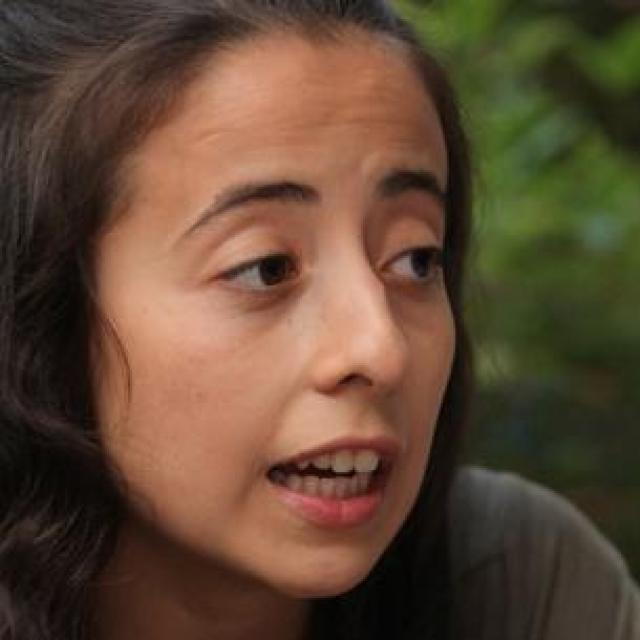surprised: (73, 52, 449, 617)
